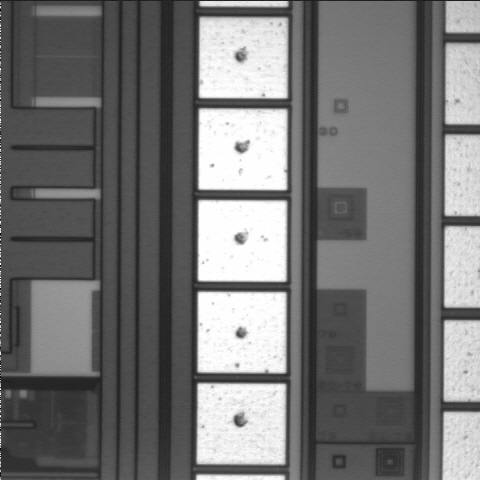pad: (198, 200, 287, 282), (198, 109, 287, 190), (197, 383, 286, 464), (198, 292, 286, 373), (199, 18, 288, 98)
